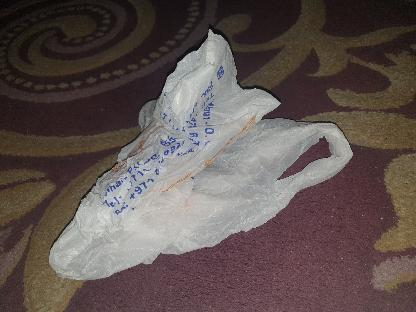Plastic Bag: (43, 25, 359, 290)
